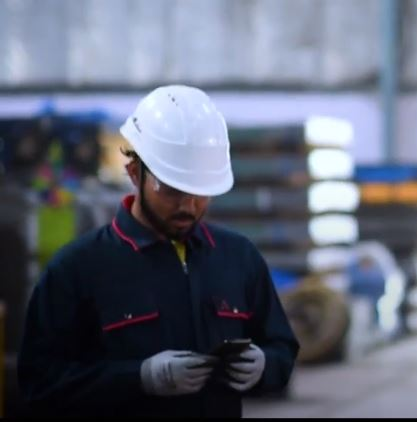Safety Helmet: (109, 77, 248, 250)
